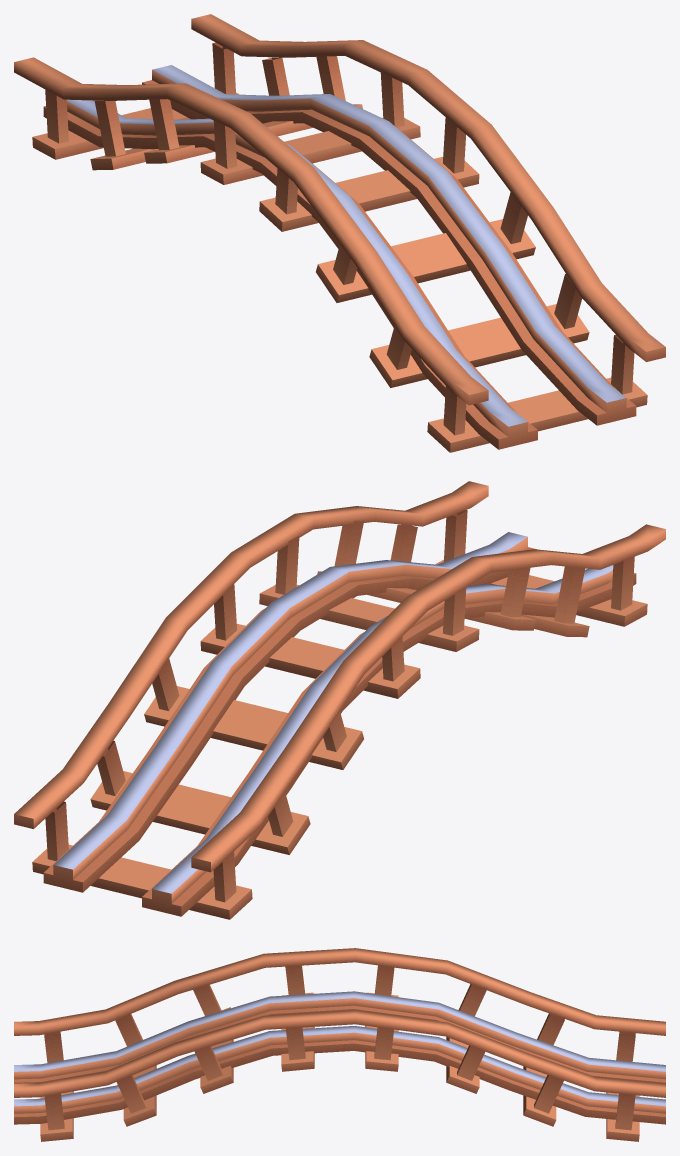
File: coaster-wood-straight-bump-up.glb
3 views of the same model, one above another, from view 1: azimuth 30°, elevation 25°; view 2: azimuth 150°, elevation 25°; view 3: azimuth 270°, elevation 25° (orthographic). The views are drawn at different scales.
Visible parts, largest first — view 1: coaster-wood-straight-bump-up; view 2: coaster-wood-straight-bump-up; view 3: coaster-wood-straight-bump-up.
Boxes of the visible parts, box(x1,y1,x2,y2) form: coaster-wood-straight-bump-up: box(14, 14, 665, 452); coaster-wood-straight-bump-up: box(14, 481, 665, 919); coaster-wood-straight-bump-up: box(14, 948, 665, 1141).
Bounding box in the file's own units: 3 × 2.54 × 12.
Materials: 1 (1 with a texture image).
